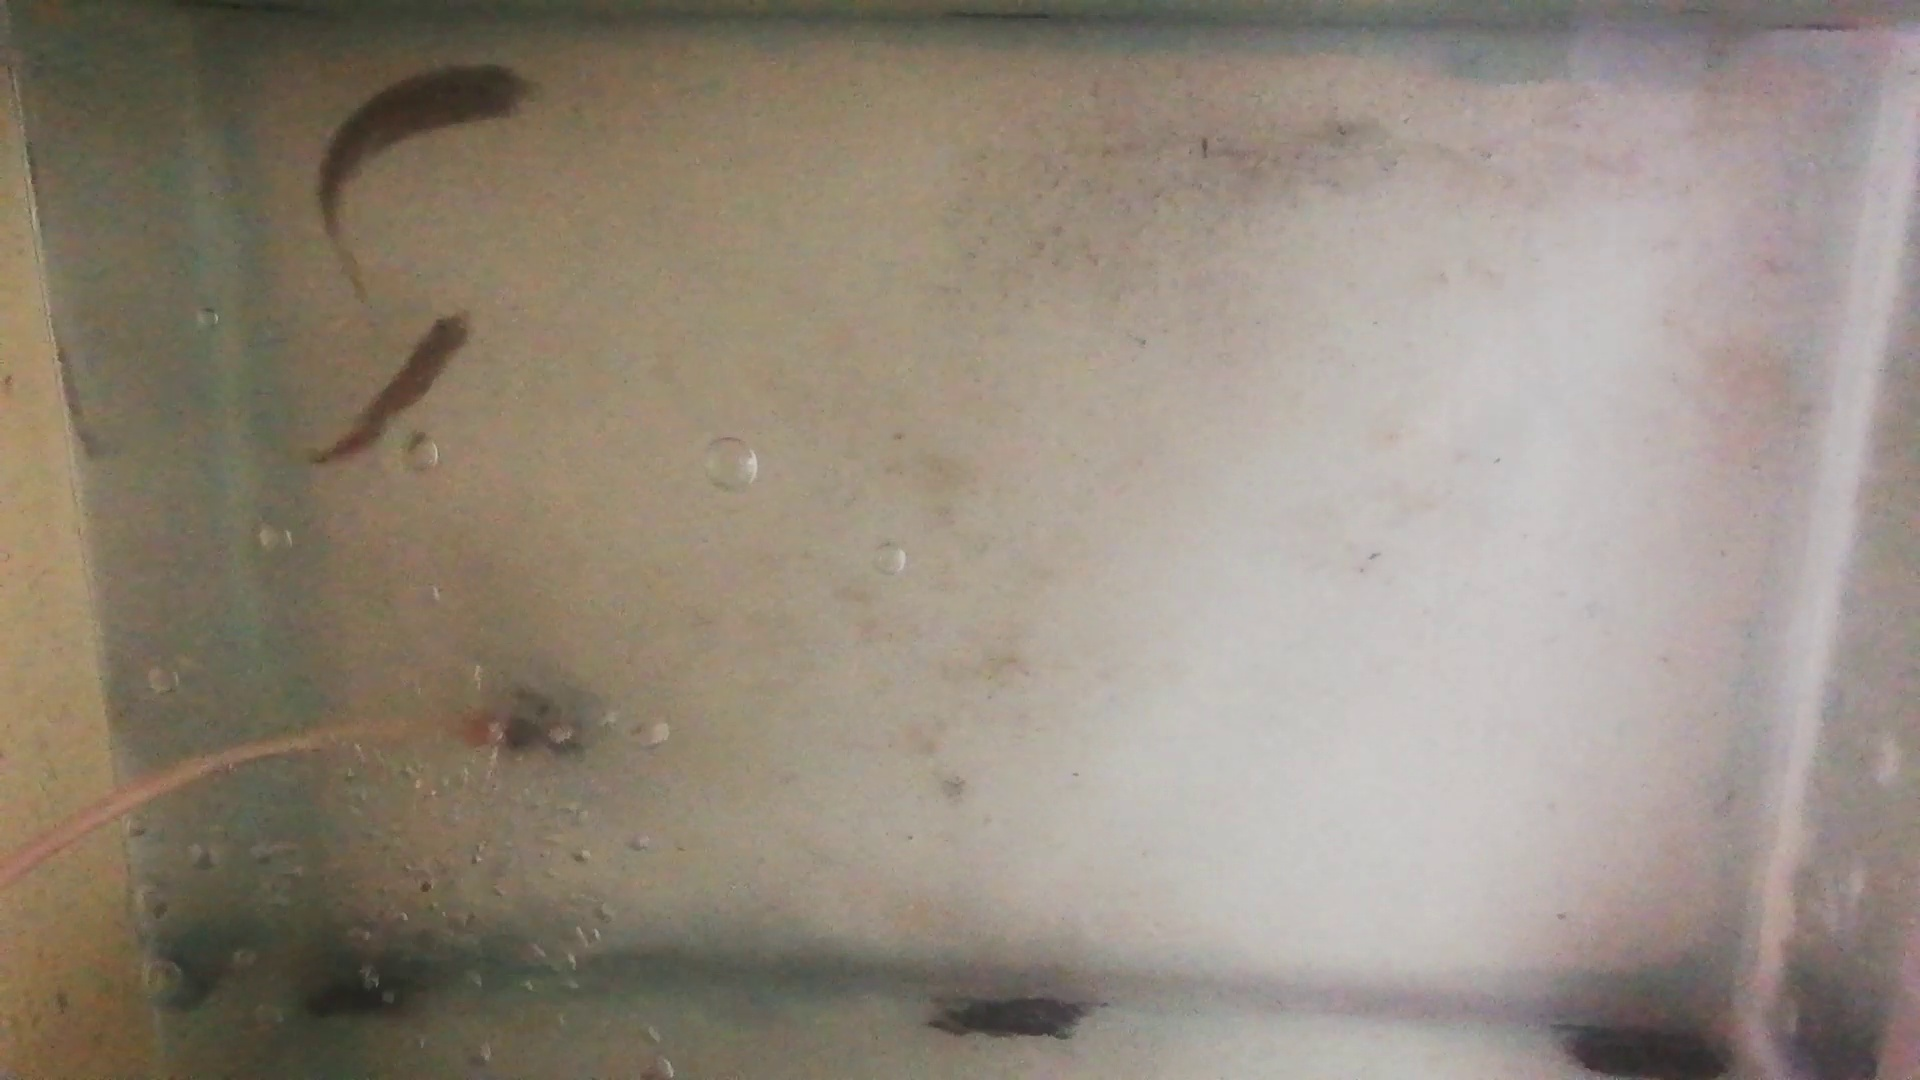fish: (315, 59, 539, 229), (315, 310, 469, 465)
